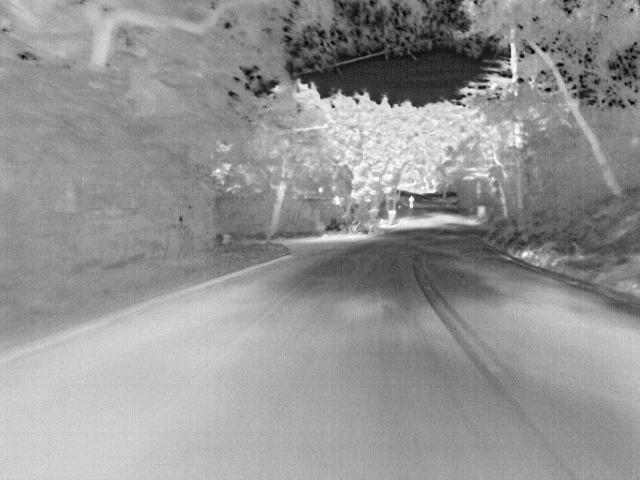person: (407, 194, 417, 209)
